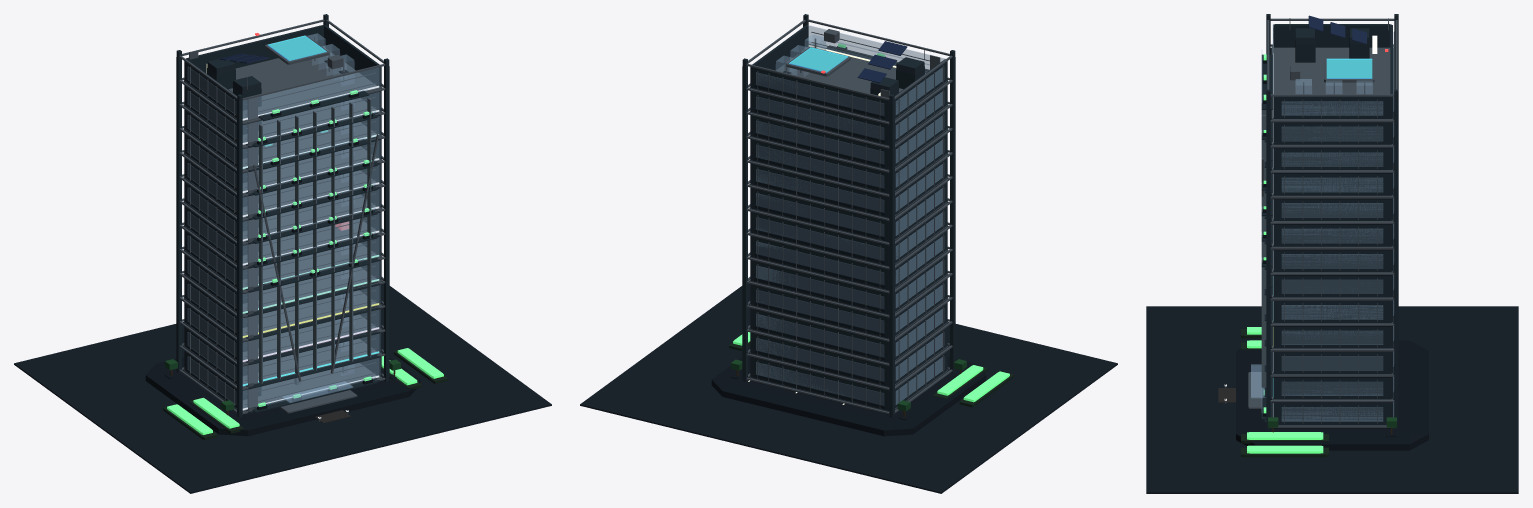
The model's file is atlas-01.glb.
3 renders of one model, left to right at view 1: azimuth 30°, elevation 25°; view 2: azimuth 150°, elevation 25°; view 3: azimuth 270°, elevation 25°, orthographic. The views are drawn at different scales.
Parts seen in each view (by area): view 1: env.static, sys.architectural-envelope.static, skydeck-reservoir.static, parking-p1.static, penthouses.static, residences-c.static, the-lung.static, reclamation-core.static, residences-d.static, residences-b.static, vertical-farm.static, residences-a.static (+17 smaller); view 2: env.static, sys.architectural-envelope.static, skydeck-reservoir.static, penthouses.static, aquaponics-bay.static, residences-a.static, residences-d.static, power-ops-core.static, reclamation-core.static, commons-clinic.static, vertical-farm.static, residences-c.static (+5 smaller); view 3: env.static, skydeck-reservoir.static, sys.architectural-envelope.static, residences-b.static, penthouses.static, residences-d.static, vertical-farm.static, residences-a.static, residences-c.static, parking-p1.static, reclamation-core.static, commons-clinic.static (+4 smaller).
Boxes of the visible parts, box(x1,y1,x2,y2) form: env.static: box(14, 280, 551, 493); sys.architectural-envelope.static: box(176, 14, 389, 417); skydeck-reservoir.static: box(183, 25, 382, 124); parking-p1.static: box(183, 351, 382, 414); penthouses.static: box(183, 85, 382, 148); residences-c.static: box(183, 158, 382, 221); the-lung.static: box(183, 109, 382, 173); reclamation-core.static: box(183, 327, 382, 390); residences-d.static: box(183, 133, 382, 197); residences-b.static: box(183, 182, 382, 245); vertical-farm.static: box(183, 230, 382, 293); residences-a.static: box(183, 206, 382, 269); env.static: box(580, 280, 1117, 493); sys.architectural-envelope.static: box(742, 14, 955, 417); skydeck-reservoir.static: box(749, 25, 948, 124); penthouses.static: box(749, 85, 948, 148); aquaponics-bay.static: box(749, 254, 948, 317); residences-a.static: box(749, 206, 948, 269); residences-d.static: box(749, 133, 948, 197); power-ops-core.static: box(749, 278, 948, 342); reclamation-core.static: box(749, 327, 948, 390); commons-clinic.static: box(749, 302, 948, 366); vertical-farm.static: box(749, 230, 948, 293); residences-c.static: box(749, 158, 948, 221); env.static: box(1146, 306, 1518, 493); skydeck-reservoir.static: box(1261, 15, 1394, 122); sys.architectural-envelope.static: box(1261, 14, 1398, 430); residences-b.static: box(1261, 224, 1394, 250); penthouses.static: box(1261, 122, 1394, 148); residences-d.static: box(1261, 173, 1394, 199); vertical-farm.static: box(1264, 275, 1394, 300); residences-a.static: box(1261, 249, 1394, 275); residences-c.static: box(1261, 198, 1394, 224); parking-p1.static: box(1261, 387, 1394, 428); reclamation-core.static: box(1264, 377, 1394, 402); commons-clinic.static: box(1264, 351, 1394, 377).
Bounding box in the file's own units: 26 × 23.53 × 22.
